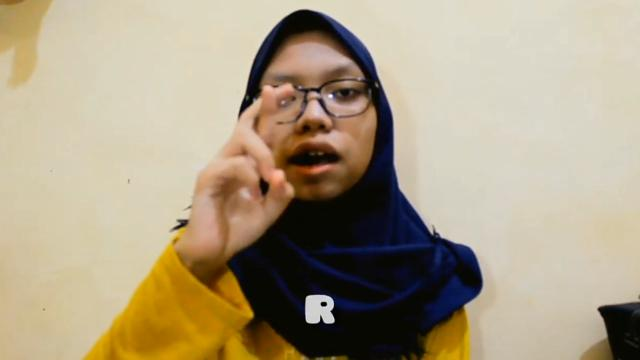R: (188, 73, 298, 263)
